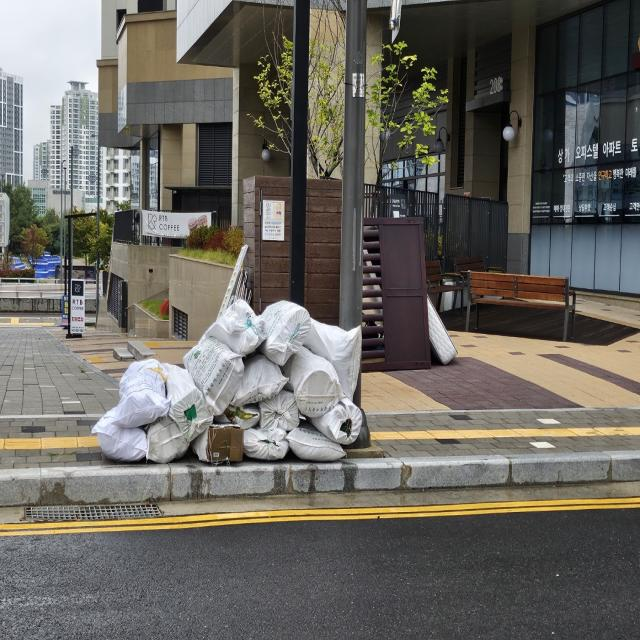General Waste: (92, 295, 364, 478)
Large Waste Items: (374, 217, 434, 370)
